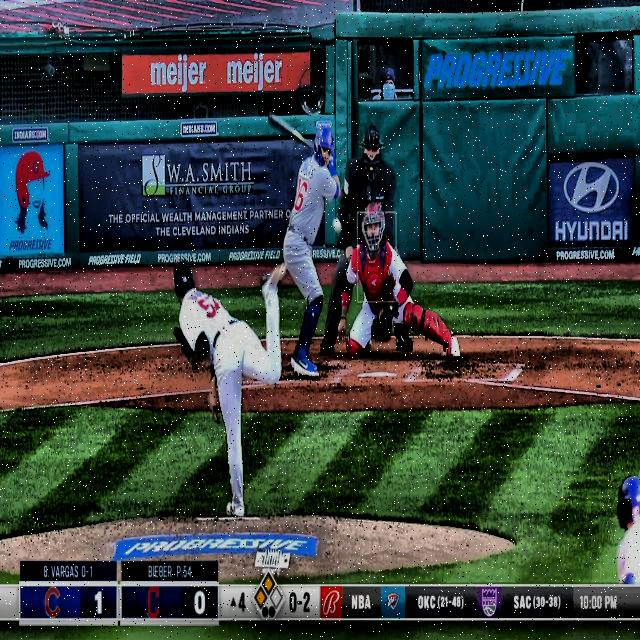baseball: (332, 217, 342, 234)
